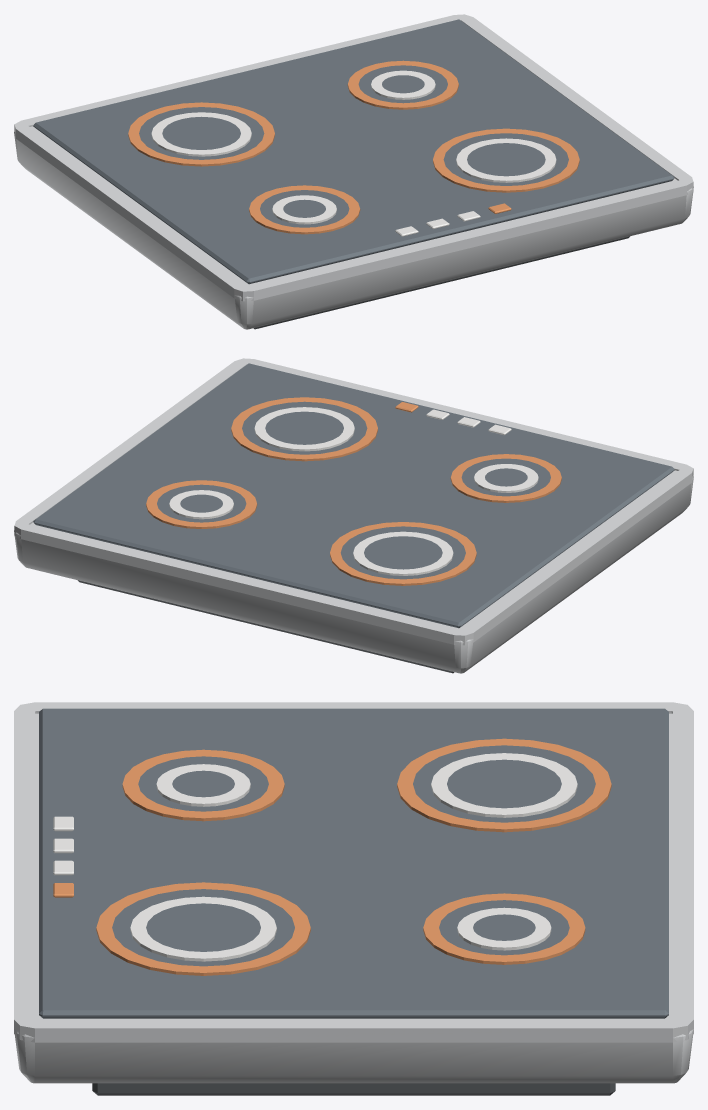
Rendered from home-appliances-and-utility-hob-ceramic-4-zone-304f1dc5__14086.glb.
3 views of the same model, one above another, from view 1: azimuth 30°, elevation 25°; view 2: azimuth 150°, elevation 25°; view 3: azimuth 270°, elevation 25° (orthographic). The views are drawn at different scales.
Visible parts, largest first — view 1: hob-ceramic-4-zone; view 2: hob-ceramic-4-zone; view 3: hob-ceramic-4-zone.
Boxes of the visible parts, <box> form: hob-ceramic-4-zone: <box>14,14,693,329</box>; hob-ceramic-4-zone: <box>14,358,693,673</box>; hob-ceramic-4-zone: <box>14,702,693,1095</box>.
Size of the model in its own units: 0.59 by 0.0905 by 0.52.
